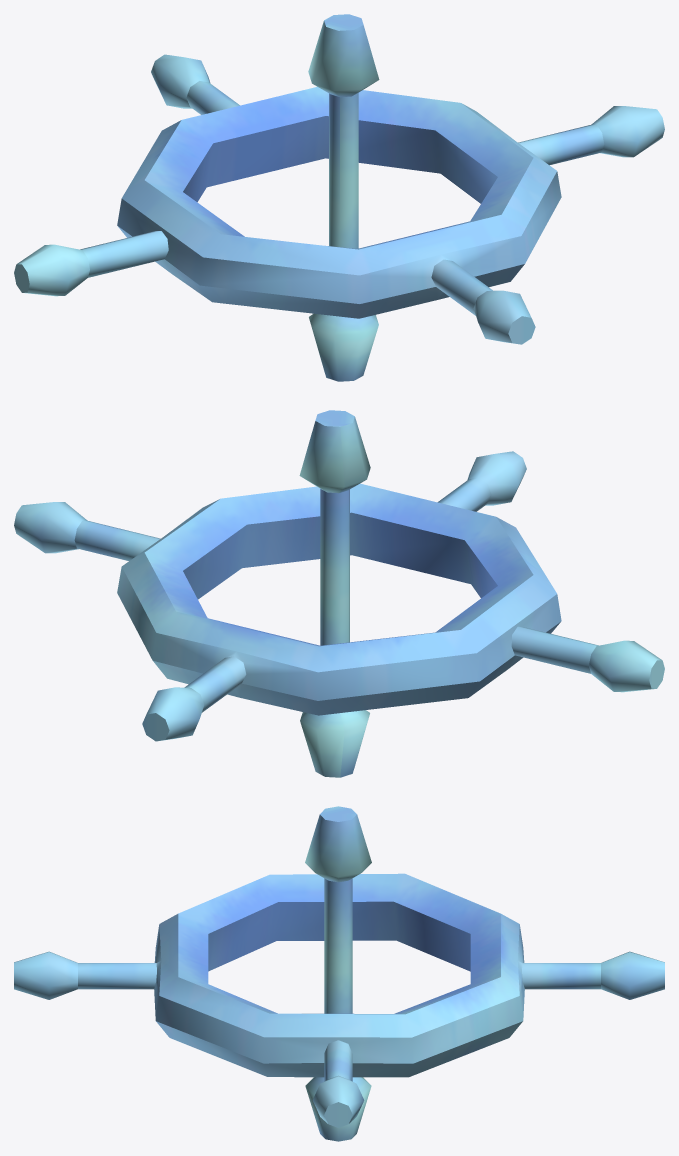
File: ui_spacestation.fbx
The picture shows the model from 3 angles, top to bottom: view 1: azimuth 30°, elevation 25°; view 2: azimuth 150°, elevation 25°; view 3: azimuth 270°, elevation 25°; orthographic projection. The views are drawn at different scales.
Parts seen in each view (by area): view 1: mesh_node; view 2: mesh_node; view 3: mesh_node.
Boxes of the visible parts, x1,y1,x2,y2 form: mesh_node: (14,14,664,381); mesh_node: (14,410,664,777); mesh_node: (14,806,664,1141).
Bounding box in the file's own units: 1.58 × 0.8316 × 1.54.
